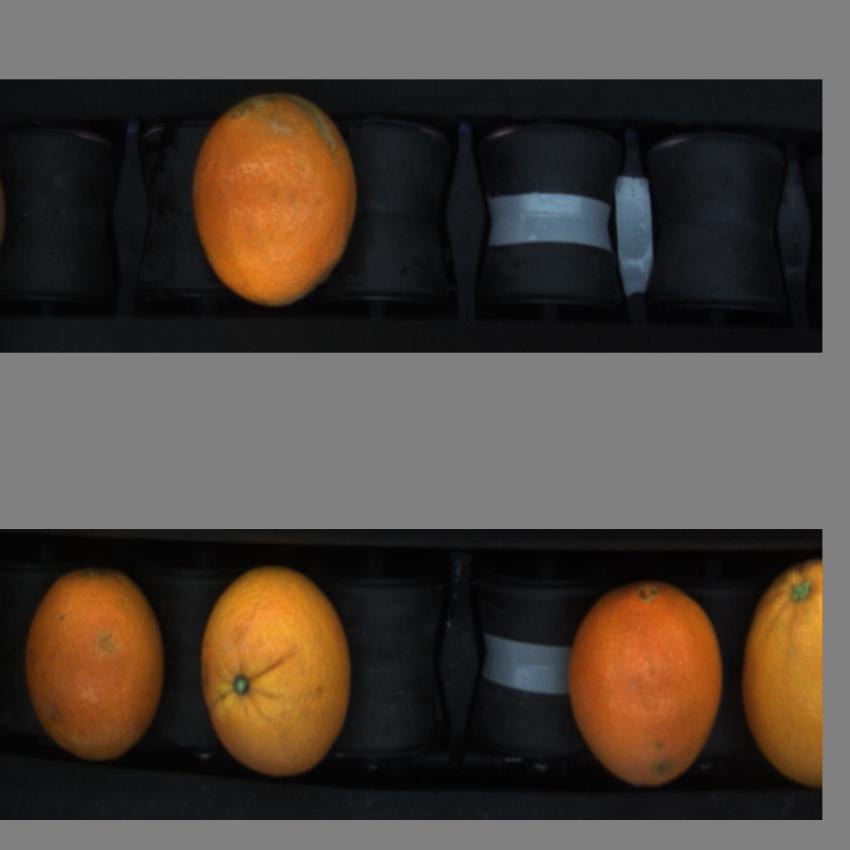Buen estado: (186, 87, 379, 322), (563, 571, 727, 805), (196, 564, 366, 782), (23, 568, 174, 775), (739, 554, 822, 796)
